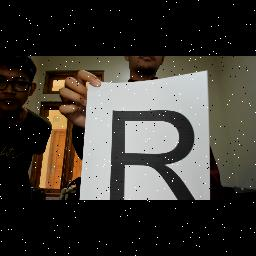r: (105, 100, 205, 200)
